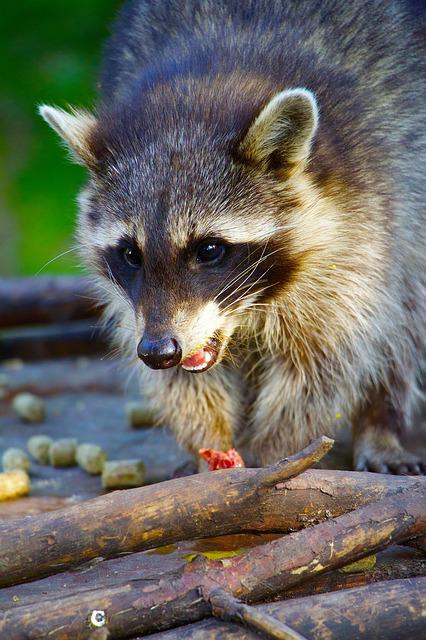raccoon: (12, 0, 425, 485)
